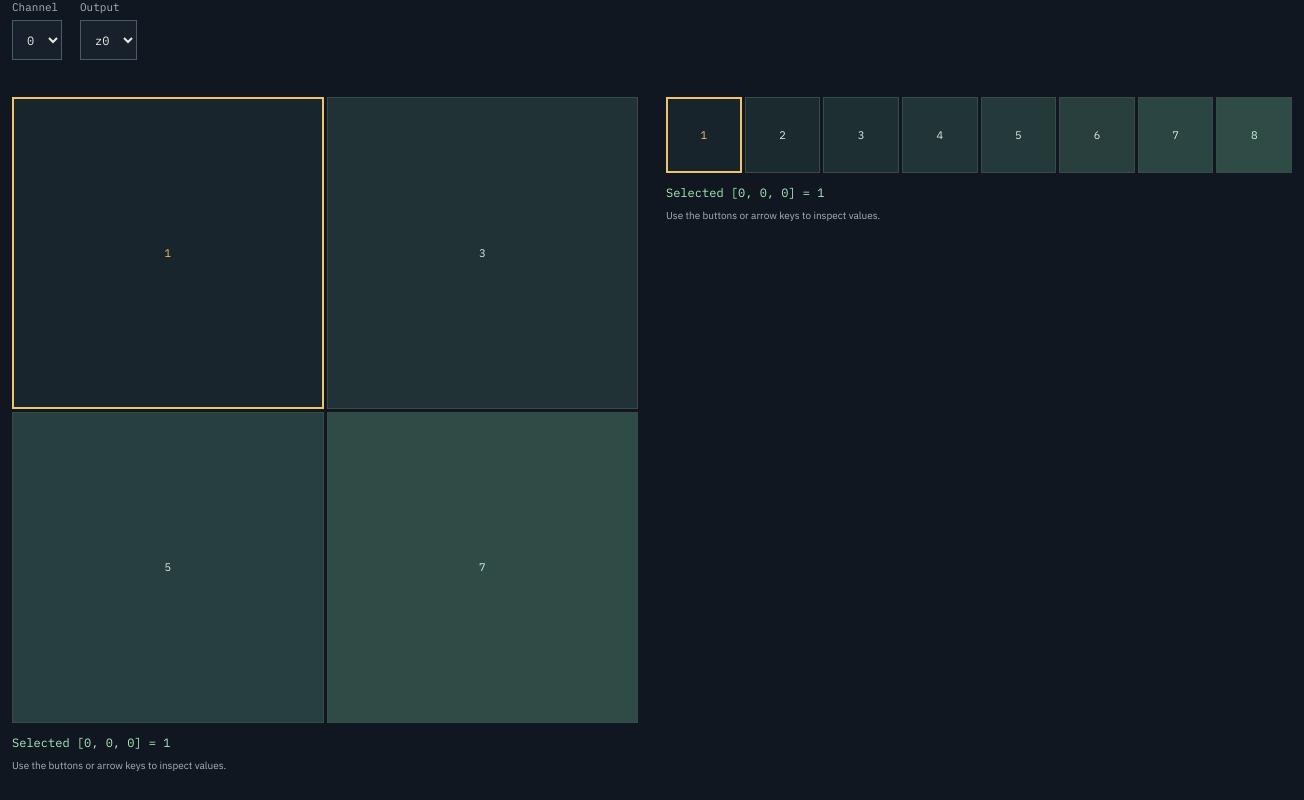
Test: flatten selection maps a known spatial coordinate to an index
The width and height of the screenshot is (1304, 800).
Click the button named "Flatten [0, 3, 0] = 4". click: click(940, 135)
box: [902, 97, 978, 173]
(page scrolled)
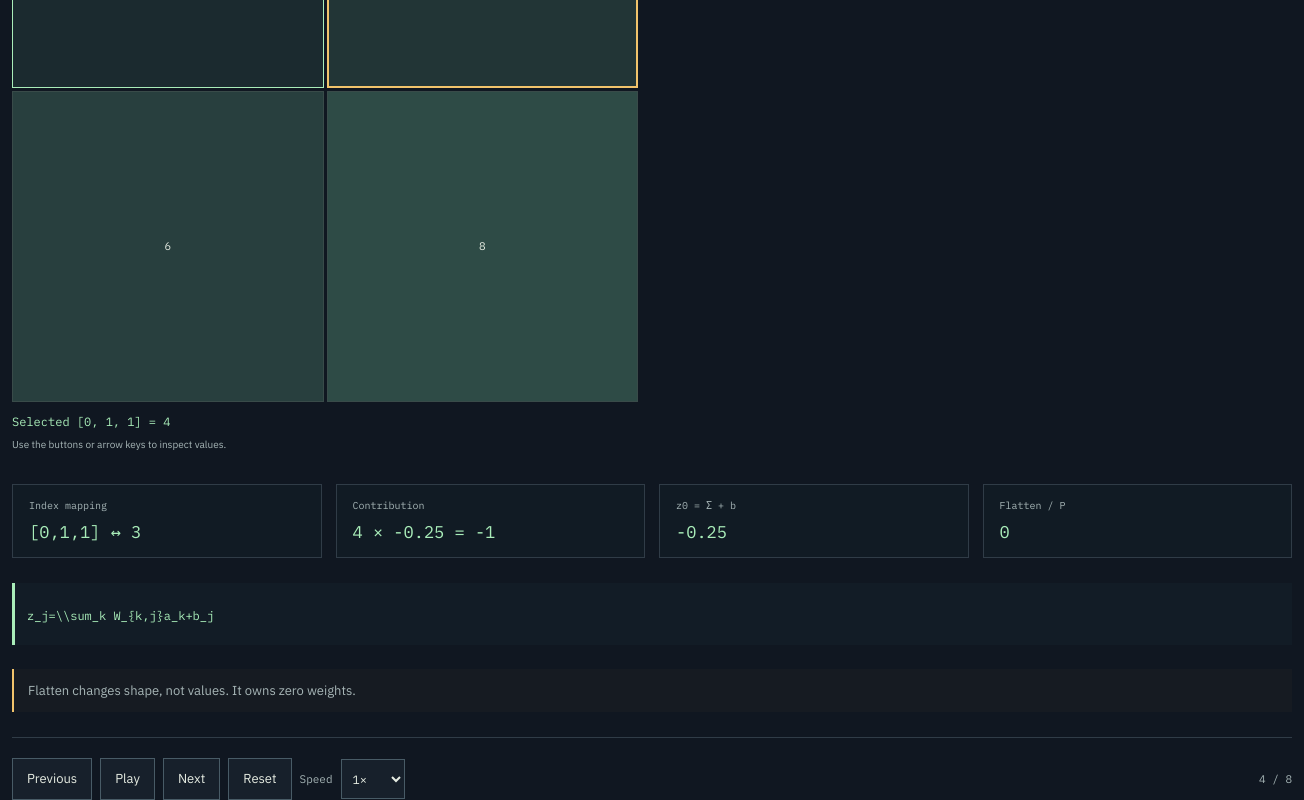
Check: the text "[0,1,1] ↔ 3" is shown, box [29, 520, 141, 542]
